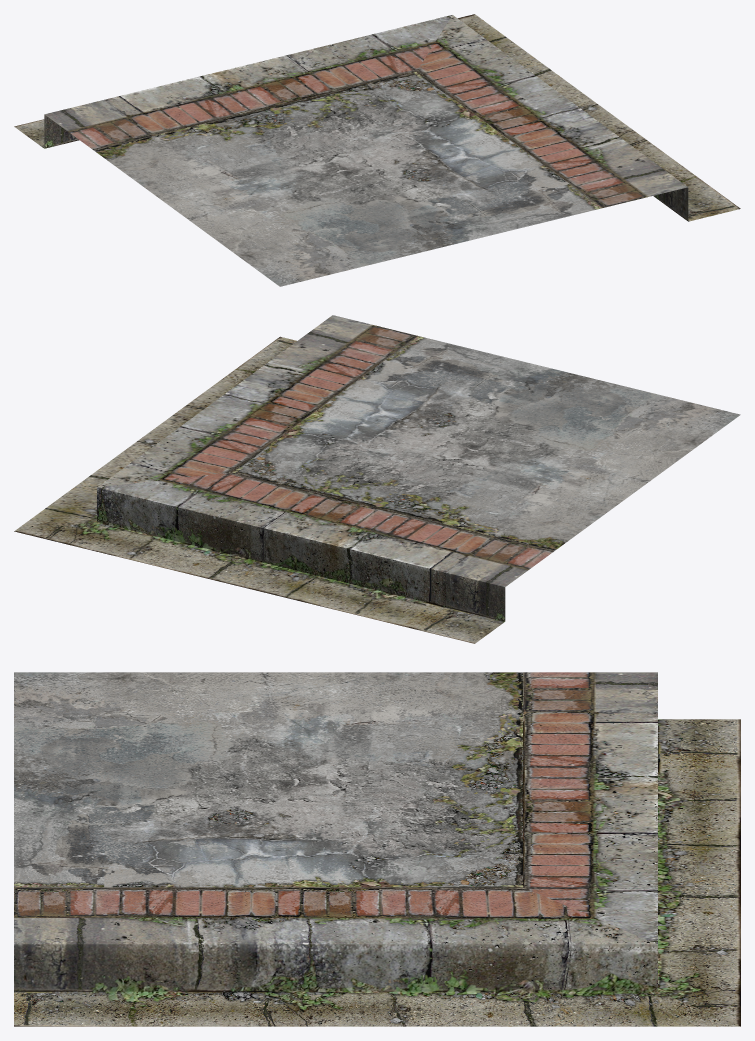
File: Sidewalk1_TurnA.FBX
The picture shows the model from 3 angles, top to bottom: view 1: azimuth 30°, elevation 25°; view 2: azimuth 150°, elevation 25°; view 3: azimuth 270°, elevation 25°; orthographic projection. The views are drawn at different scales.
Visible parts, largest first — view 1: Sidewalk1_TurnA; view 2: Sidewalk1_TurnA; view 3: Sidewalk1_TurnA.
Part boxes in pixels (<box>): Sidewalk1_TurnA: <box>14,14,740,286</box>; Sidewalk1_TurnA: <box>14,315,740,643</box>; Sidewalk1_TurnA: <box>14,672,740,1026</box>.
Size of the model in its own units: 350 by 25 by 350.
2 materials, 2 textured.
